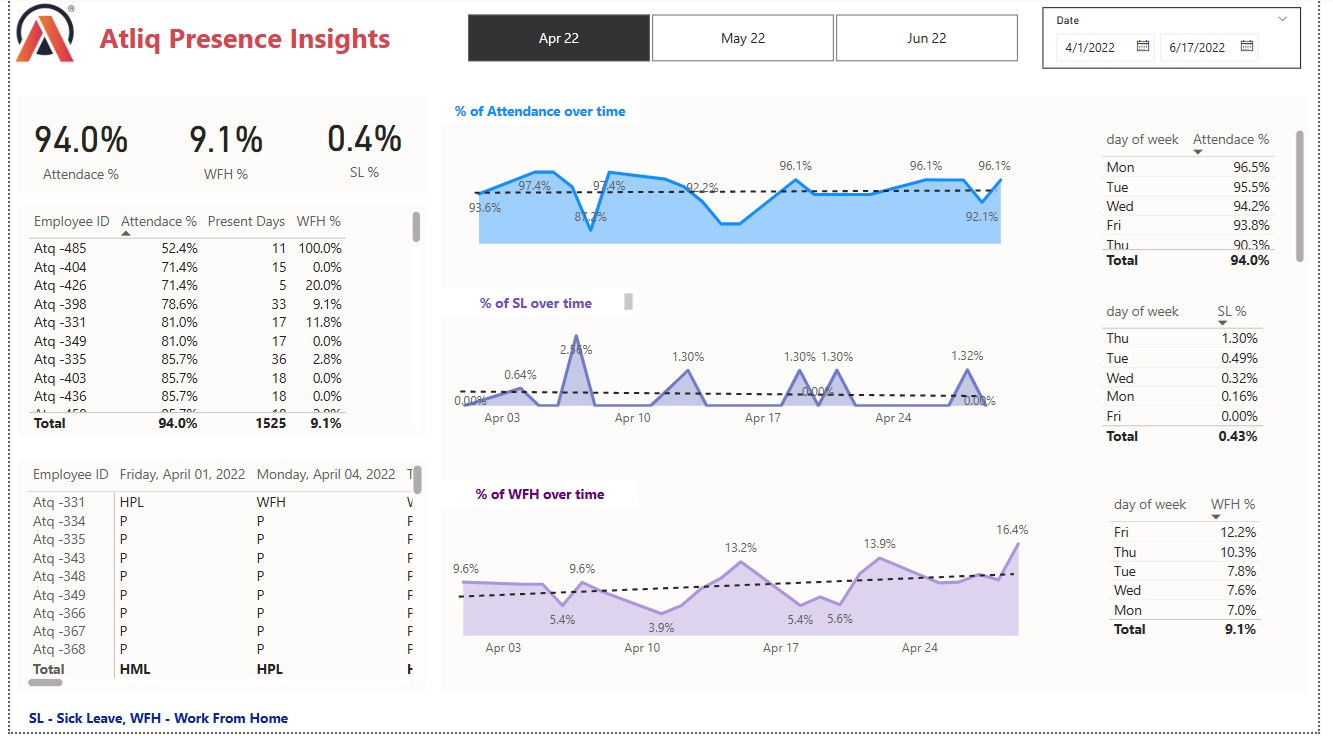

What the dashboard file says about the page in this screenshot:
{"tool":"powerbi","page":{"name":"Presence Insights","canvas":[1280,720],"ordinal":0},"visuals":[{"type":"textbox","box":[7.8,205.6,399.9,225.5],"z":0},{"type":"textbox","box":[7.8,453.3,399.8,227.6],"z":1000},{"type":"textbox","box":[422.3,97.9,848.1,582.3],"z":2000},{"type":"textbox","box":[7.8,98,399.9,95.4],"z":3000},{"type":"tableEx","fields":{"Values":["Final Data.Employee ID","Measures (2).Attendace %","Measures (2).Present Days","Measures (2).WFH %"]},"box":[12.6,205.2,394.9,225.7],"z":4000},{"type":"slicer","fields":{"Values":["Final Data.Date"]},"box":[1010.1,11,253.1,59.9],"z":5000},{"type":"slicer","fields":{"Values":["Final Data.MMM YY"]},"box":[421.9,11,588.2,59.9],"z":6000},{"type":"areaChart","fields":{"Category":["Final Data.MMM YY","Final Data.Date"],"Y":["Measures (2).WFH %"]},"box":[420.7,502.3,589,153.5],"z":7000},{"type":"areaChart","fields":{"Category":["Final Data.WeekNo","Final Data.Date"],"Y":["Measures (2).Attendace %"]},"box":[444.1,144.9,540.4,103.2],"z":8000},{"type":"card","fields":{"Values":["Measures (2).Attendace %"]},"box":[7.8,98,124,96.3],"z":9000},{"type":"card","fields":{"Values":["Measures (2).WFH %"]},"box":[141.4,98,138.8,96.3],"z":10000},{"type":"areaChart","fields":{"Category":["Final Data.MMM YY","Final Data.Date"],"Y":["Measures (2).SL %"]},"box":[422.5,307.1,556,124],"z":11000},{"type":"image","box":[0,0,70,71],"z":12000},{"type":"card","fields":{"Values":["Measures (2).SL %"]},"box":[286.3,97.2,121.4,96.3],"z":13000},{"type":"textbox","box":[70.3,0,320.1,71.1],"z":14000},{"type":"textbox","box":[422.4,98.2,192.5,27.5],"z":15000},{"type":"textbox","box":[422.5,286.3,192.6,26.9],"z":16000},{"type":"textbox","box":[422.1,473.7,192.6,27.2],"z":17000},{"type":"pivotTable","fields":{"Rows":["Final Data.Employee ID"],"Columns":["Final Data.Date"],"Values":["Min(Final Data.Value)"]},"box":[11.7,453.3,395.9,227.6],"z":18000},{"type":"textbox","box":[13.6,691.6,289.8,28.2],"z":19000},{"type":"tableEx","fields":{"Values":["Final Data.day of week","Measures (2).Attendace %"]},"box":[1060.9,125.8,209.9,145.7],"z":20000},{"type":"tableEx","fields":{"Values":["Final Data.day of week","Measures (2).SL %"]},"box":[1060.9,294.1,191.7,167.4],"z":21000},{"type":"tableEx","fields":{"Values":["Final Data.day of week","Measures (2).WFH %"]},"box":[1068.7,483.2,170,167.4],"z":22000}]}

Visuals, with their boxes in screenshot pixels (x1, y1, x2, y2), scaled from the page's 1280x720 canvas onto the 1333x736 screenshot:
textbox: (left=8, top=210, right=425, bottom=441)
textbox: (left=8, top=463, right=424, bottom=696)
textbox: (left=440, top=100, right=1323, bottom=695)
textbox: (left=8, top=100, right=425, bottom=198)
tableEx - Final Data.Employee ID x Measures (2).Attendace %: (left=13, top=210, right=424, bottom=440)
slicer - Final Data.Date: (left=1052, top=11, right=1316, bottom=72)
slicer - Final Data.MMM YY: (left=439, top=11, right=1052, bottom=72)
areaChart - Final Data.MMM YY x Final Data.Date: (left=438, top=513, right=1052, bottom=670)
areaChart - Final Data.WeekNo x Final Data.Date: (left=462, top=148, right=1025, bottom=254)
card - Measures (2).Attendace %: (left=8, top=100, right=137, bottom=199)
card - Measures (2).WFH %: (left=147, top=100, right=292, bottom=199)
areaChart - Final Data.MMM YY x Final Data.Date: (left=440, top=314, right=1019, bottom=441)
image: (left=0, top=0, right=73, bottom=73)
card - Measures (2).SL %: (left=298, top=99, right=425, bottom=198)
textbox: (left=73, top=0, right=407, bottom=73)
textbox: (left=440, top=100, right=640, bottom=128)
textbox: (left=440, top=293, right=641, bottom=320)
textbox: (left=440, top=484, right=640, bottom=512)
pivotTable - Final Data.Employee ID x Final Data.Date: (left=12, top=463, right=424, bottom=696)
textbox: (left=14, top=707, right=316, bottom=735)
tableEx - Final Data.day of week x Measures (2).Attendace %: (left=1105, top=129, right=1323, bottom=278)
tableEx - Final Data.day of week x Measures (2).SL %: (left=1105, top=301, right=1304, bottom=472)
tableEx - Final Data.day of week x Measures (2).WFH %: (left=1113, top=494, right=1290, bottom=665)
